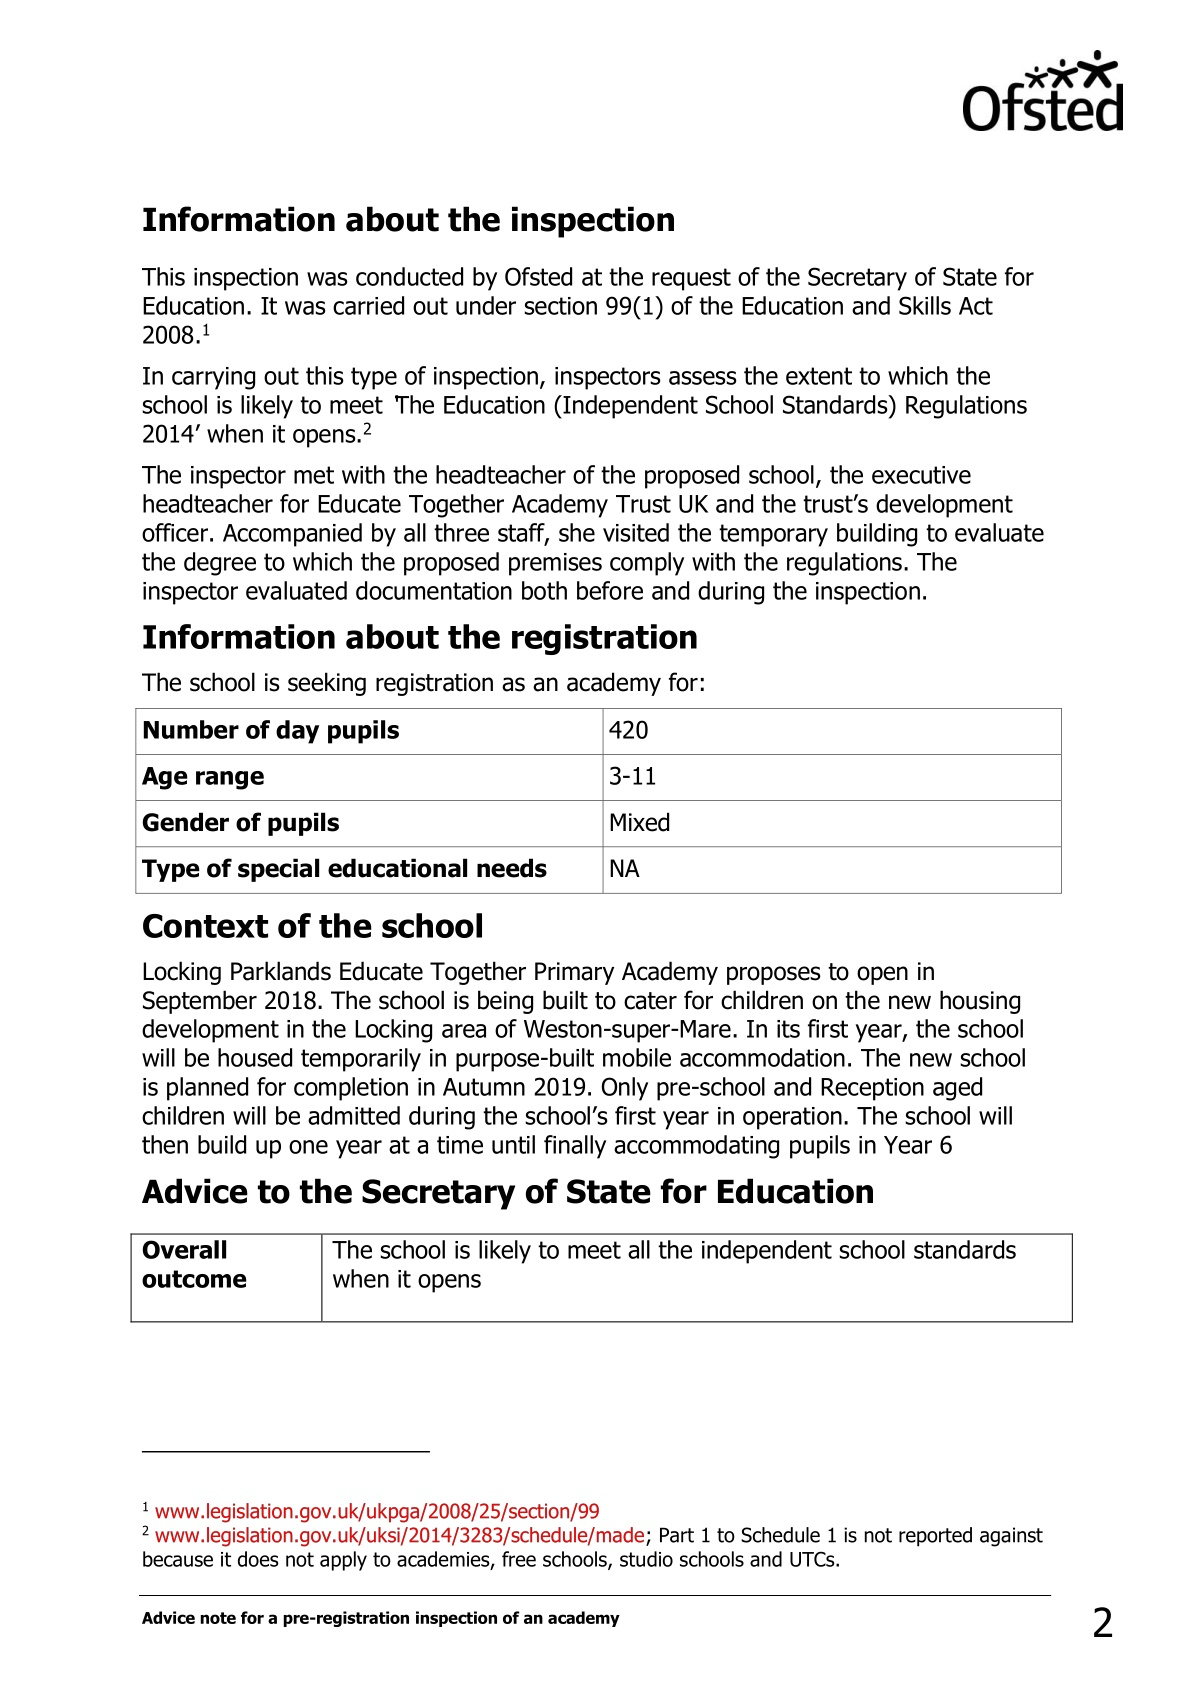full_lined: (134, 708, 1062, 893), (130, 1233, 1074, 1324)
